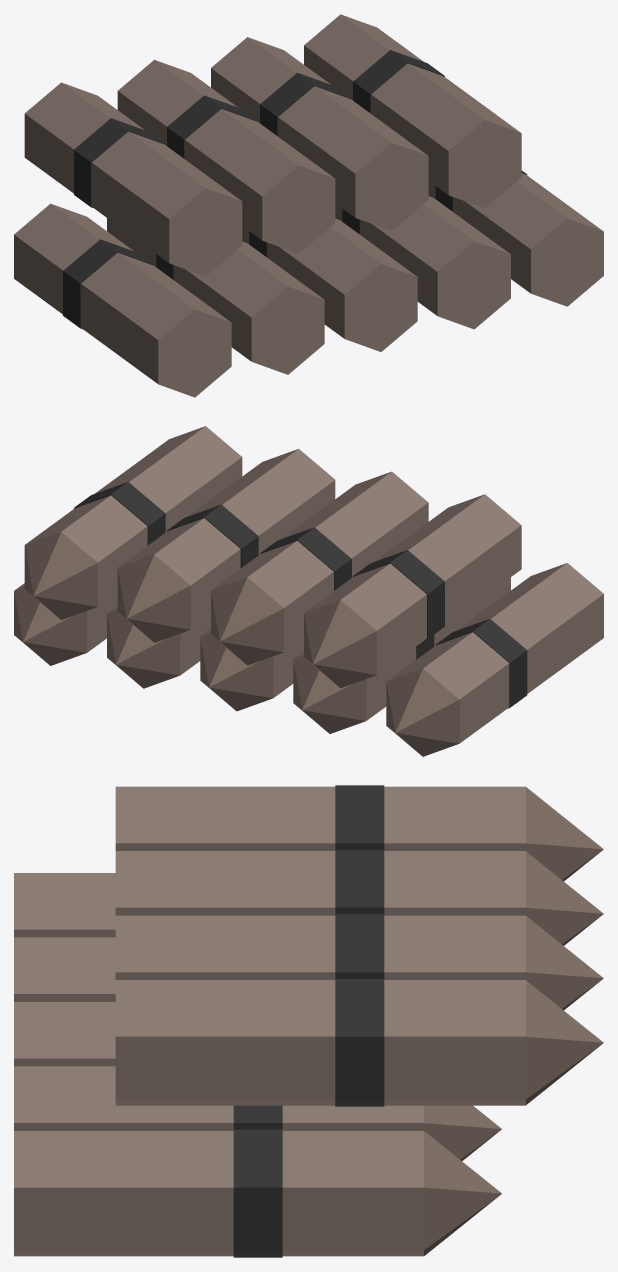
Rendered from ce_ammo_mechcells_mech_b.obj.
The picture shows the model from 3 angles, top to bottom: view 1: azimuth 30°, elevation 25°; view 2: azimuth 150°, elevation 25°; view 3: azimuth 270°, elevation 25°; orthographic projection. The views are drawn at different scales.
Parts seen in each view (by area): view 1: ce_ammo_mechcells_mech_b_20, ce_ammo_mechcells_mech_b_0, ce_ammo_mechcells_mech_b_24, ce_ammo_mechcells_mech_b_32, ce_ammo_mechcells_mech_b_28, ce_ammo_mechcells_mech_b_8, ce_ammo_mechcells_mech_b_4, ce_ammo_mechcells_mech_b_12, ce_ammo_mechcells_mech_b_16, ce_ammo_mechcells_mech_b_22, ce_ammo_mechcells_mech_b_2, ce_ammo_mechcells_mech_b_26 (+8 smaller); view 2: ce_ammo_mechcells_mech_b_0, ce_ammo_mechcells_mech_b_20, ce_ammo_mechcells_mech_b_28, ce_ammo_mechcells_mech_b_32, ce_ammo_mechcells_mech_b_24, ce_ammo_mechcells_mech_b_2, ce_ammo_mechcells_mech_b_22, ce_ammo_mechcells_mech_b_34, ce_ammo_mechcells_mech_b_30, ce_ammo_mechcells_mech_b_26, ce_ammo_mechcells_mech_b_3, ce_ammo_mechcells_mech_b_31 (+17 smaller); view 3: ce_ammo_mechcells_mech_b_32, ce_ammo_mechcells_mech_b_16, ce_ammo_mechcells_mech_b_34, ce_ammo_mechcells_mech_b_18, ce_ammo_mechcells_mech_b_24, ce_ammo_mechcells_mech_b_20, ce_ammo_mechcells_mech_b_28, ce_ammo_mechcells_mech_b_12, ce_ammo_mechcells_mech_b_22, ce_ammo_mechcells_mech_b_26, ce_ammo_mechcells_mech_b_30, ce_ammo_mechcells_mech_b_0 (+15 smaller).
Boxes of the visible parts, x1=… form: ce_ammo_mechcells_mech_b_20: x1=91, y1=131, x2=242, y2=276; ce_ammo_mechcells_mech_b_0: x1=81, y1=252, x2=231, y2=397; ce_ammo_mechcells_mech_b_24: x1=185, y1=109, x2=335, y2=253; ce_ammo_mechcells_mech_b_32: x1=371, y1=63, x2=521, y2=208; ce_ammo_mechcells_mech_b_28: x1=278, y1=86, x2=428, y2=230; ce_ammo_mechcells_mech_b_8: x1=267, y1=218, x2=417, y2=351; ce_ammo_mechcells_mech_b_4: x1=174, y1=241, x2=324, y2=374; ce_ammo_mechcells_mech_b_12: x1=360, y1=196, x2=510, y2=329; ce_ammo_mechcells_mech_b_16: x1=453, y1=173, x2=603, y2=306; ce_ammo_mechcells_mech_b_22: x1=24, y1=82, x2=144, y2=193; ce_ammo_mechcells_mech_b_2: x1=14, y1=203, x2=133, y2=314; ce_ammo_mechcells_mech_b_26: x1=117, y1=60, x2=237, y2=145; ce_ammo_mechcells_mech_b_0: x1=456, y1=563, x2=603, y2=693; ce_ammo_mechcells_mech_b_20: x1=374, y1=494, x2=521, y2=624; ce_ammo_mechcells_mech_b_28: x1=188, y1=449, x2=335, y2=554; ce_ammo_mechcells_mech_b_32: x1=95, y1=426, x2=242, y2=532; ce_ammo_mechcells_mech_b_24: x1=281, y1=471, x2=428, y2=577; ce_ammo_mechcells_mech_b_2: x1=387, y1=632, x2=509, y2=743; ce_ammo_mechcells_mech_b_22: x1=305, y1=563, x2=426, y2=674; ce_ammo_mechcells_mech_b_34: x1=25, y1=495, x2=147, y2=606; ce_ammo_mechcells_mech_b_30: x1=118, y1=518, x2=240, y2=629; ce_ammo_mechcells_mech_b_26: x1=212, y1=541, x2=333, y2=651; ce_ammo_mechcells_mech_b_3: x1=386, y1=668, x2=459, y2=756; ce_ammo_mechcells_mech_b_31: x1=117, y1=554, x2=190, y2=642; ce_ammo_mechcells_mech_b_32: x1=115, y1=980, x2=335, y2=1105; ce_ammo_mechcells_mech_b_16: x1=14, y1=1131, x2=233, y2=1256; ce_ammo_mechcells_mech_b_34: x1=384, y1=980, x2=525, y2=1105; ce_ammo_mechcells_mech_b_18: x1=282, y1=1131, x2=423, y2=1256; ce_ammo_mechcells_mech_b_24: x1=115, y1=851, x2=335, y2=915; ce_ammo_mechcells_mech_b_20: x1=115, y1=786, x2=335, y2=850; ce_ammo_mechcells_mech_b_28: x1=115, y1=915, x2=335, y2=979; ce_ammo_mechcells_mech_b_12: x1=14, y1=1066, x2=233, y2=1130; ce_ammo_mechcells_mech_b_22: x1=384, y1=786, x2=525, y2=850; ce_ammo_mechcells_mech_b_26: x1=384, y1=851, x2=525, y2=915; ce_ammo_mechcells_mech_b_30: x1=384, y1=915, x2=525, y2=979; ce_ammo_mechcells_mech_b_0: x1=14, y1=873, x2=115, y2=937.
Size of the model in its own units: 0.7202 by 0.2674 by 0.58.
